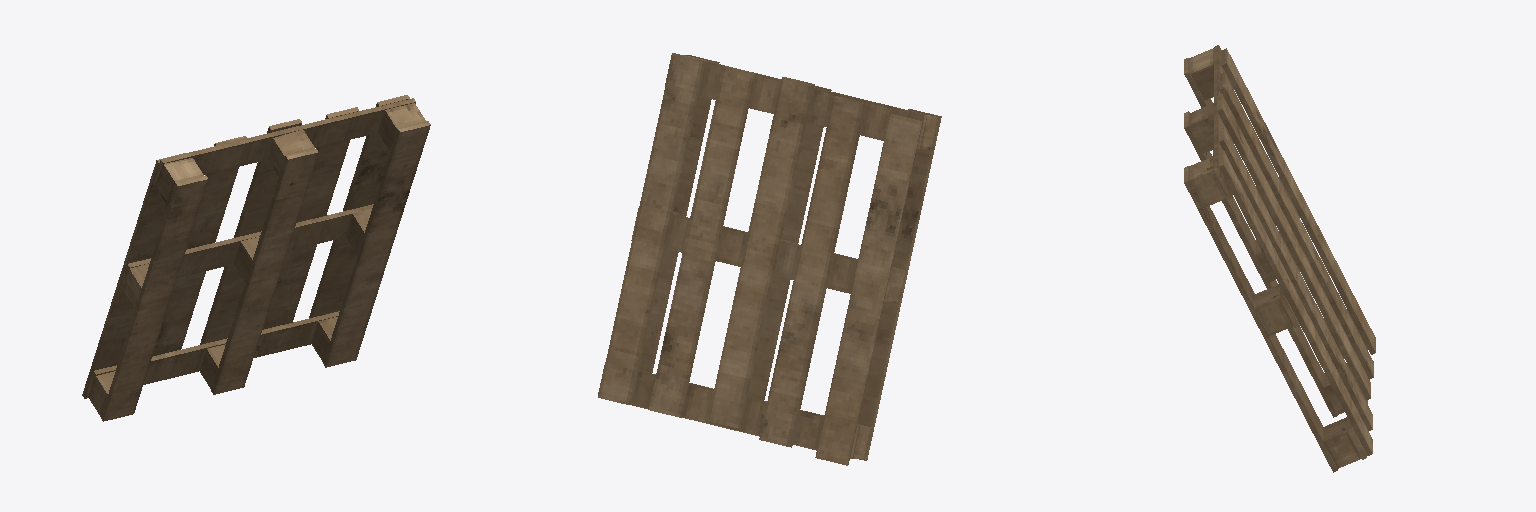
The picture shows the model from 3 angles: view 1: azimuth 30°, elevation 25°; view 2: azimuth 150°, elevation 25°; view 3: azimuth 270°, elevation 25°; orthographic projection.
Parts seen in each view (by area): view 1: Pallet_2_Mesh.032; view 2: Pallet_2_Mesh.032; view 3: Pallet_2_Mesh.032.
Boxes of the visible parts, x1,y1,x2,y2 form: Pallet_2_Mesh.032: [82, 95, 430, 421]; Pallet_2_Mesh.032: [598, 53, 941, 465]; Pallet_2_Mesh.032: [1184, 45, 1375, 472].
Size of the model in its own units: 1.61 by 1.88 by 1.06.
1 materials, 1 textured.